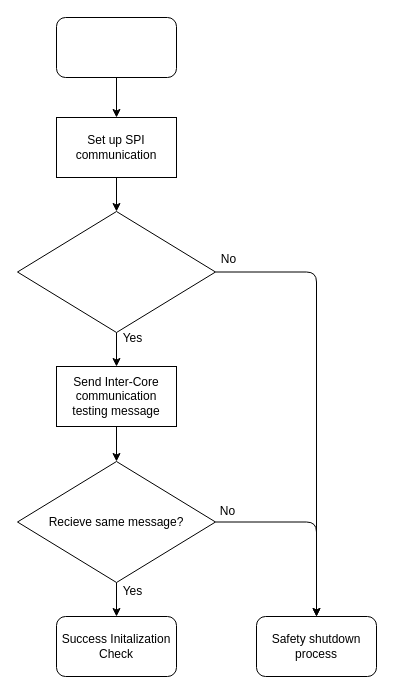
Some shapes in this 394 by 694 pixel diagram are drawn without their labels. The centre of each missing label's shape, as x and y in pixels:
Is SPI ADC self test OK?: the point at 116,271
Start Initialization Checks: the point at 116,47
